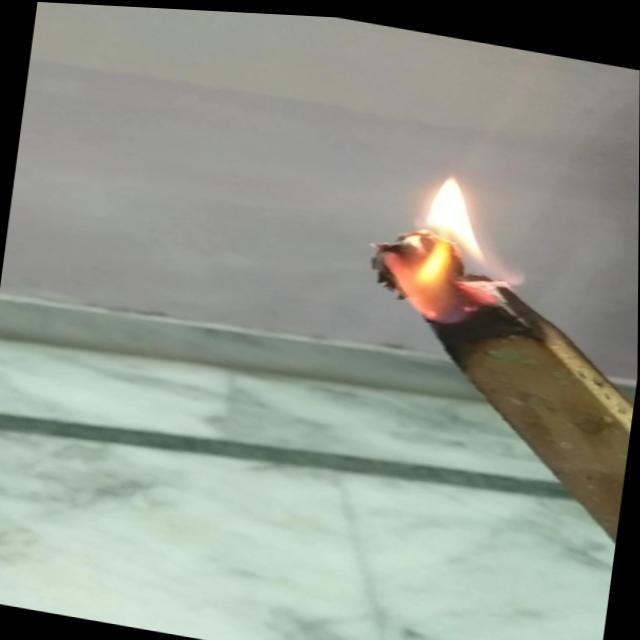fire: (355, 153, 519, 328)
